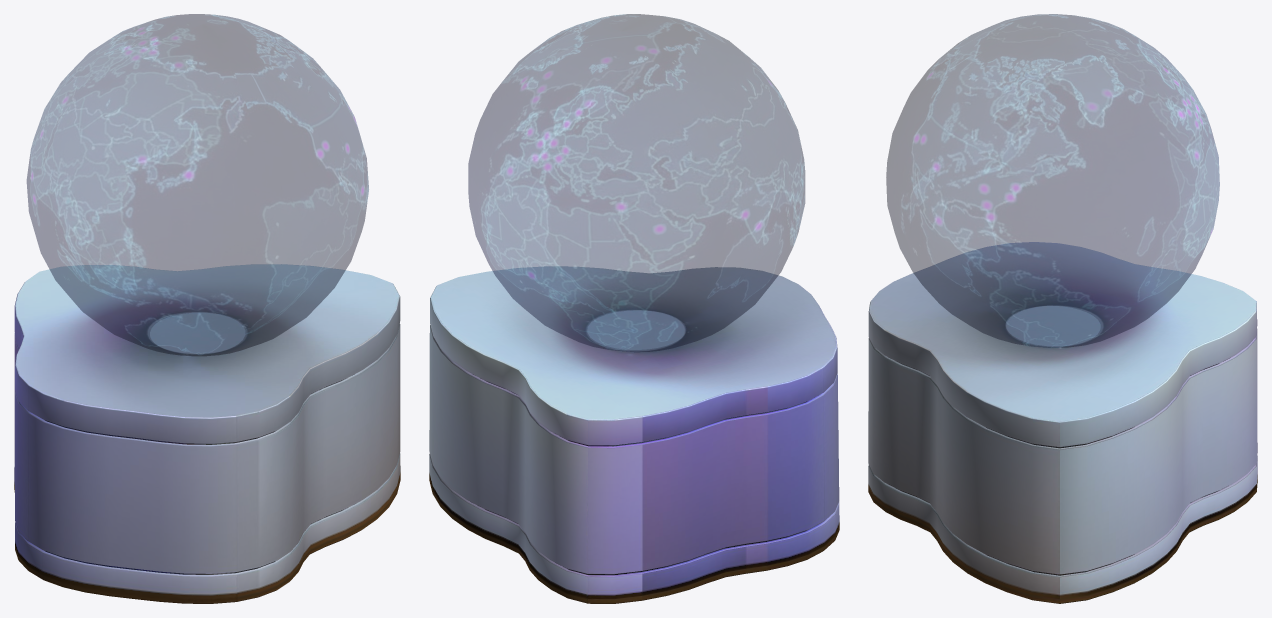
Rendered from SZ_Globe.glb.
The picture shows the model from 3 angles, left to right: view 1: azimuth 30°, elevation 25°; view 2: azimuth 150°, elevation 25°; view 3: azimuth 270°, elevation 25°; orthographic projection. The views are drawn at different scales.
Visible parts, largest first — view 1: SZ_TAble, SZ_Globe; view 2: SZ_TAble, SZ_Globe; view 3: SZ_TAble, SZ_Globe.
Part boxes in pixels (bbox=[...]): SZ_TAble: bbox=[14, 264, 400, 603]; SZ_Globe: bbox=[27, 14, 368, 355]; SZ_TAble: bbox=[429, 266, 839, 603]; SZ_Globe: bbox=[468, 14, 804, 351]; SZ_TAble: bbox=[868, 242, 1257, 603]; SZ_Globe: bbox=[886, 14, 1219, 347].
Size of the model in its own units: 1.62 by 2.01 by 1.47.
Materials: 2 (2 with a texture image).
